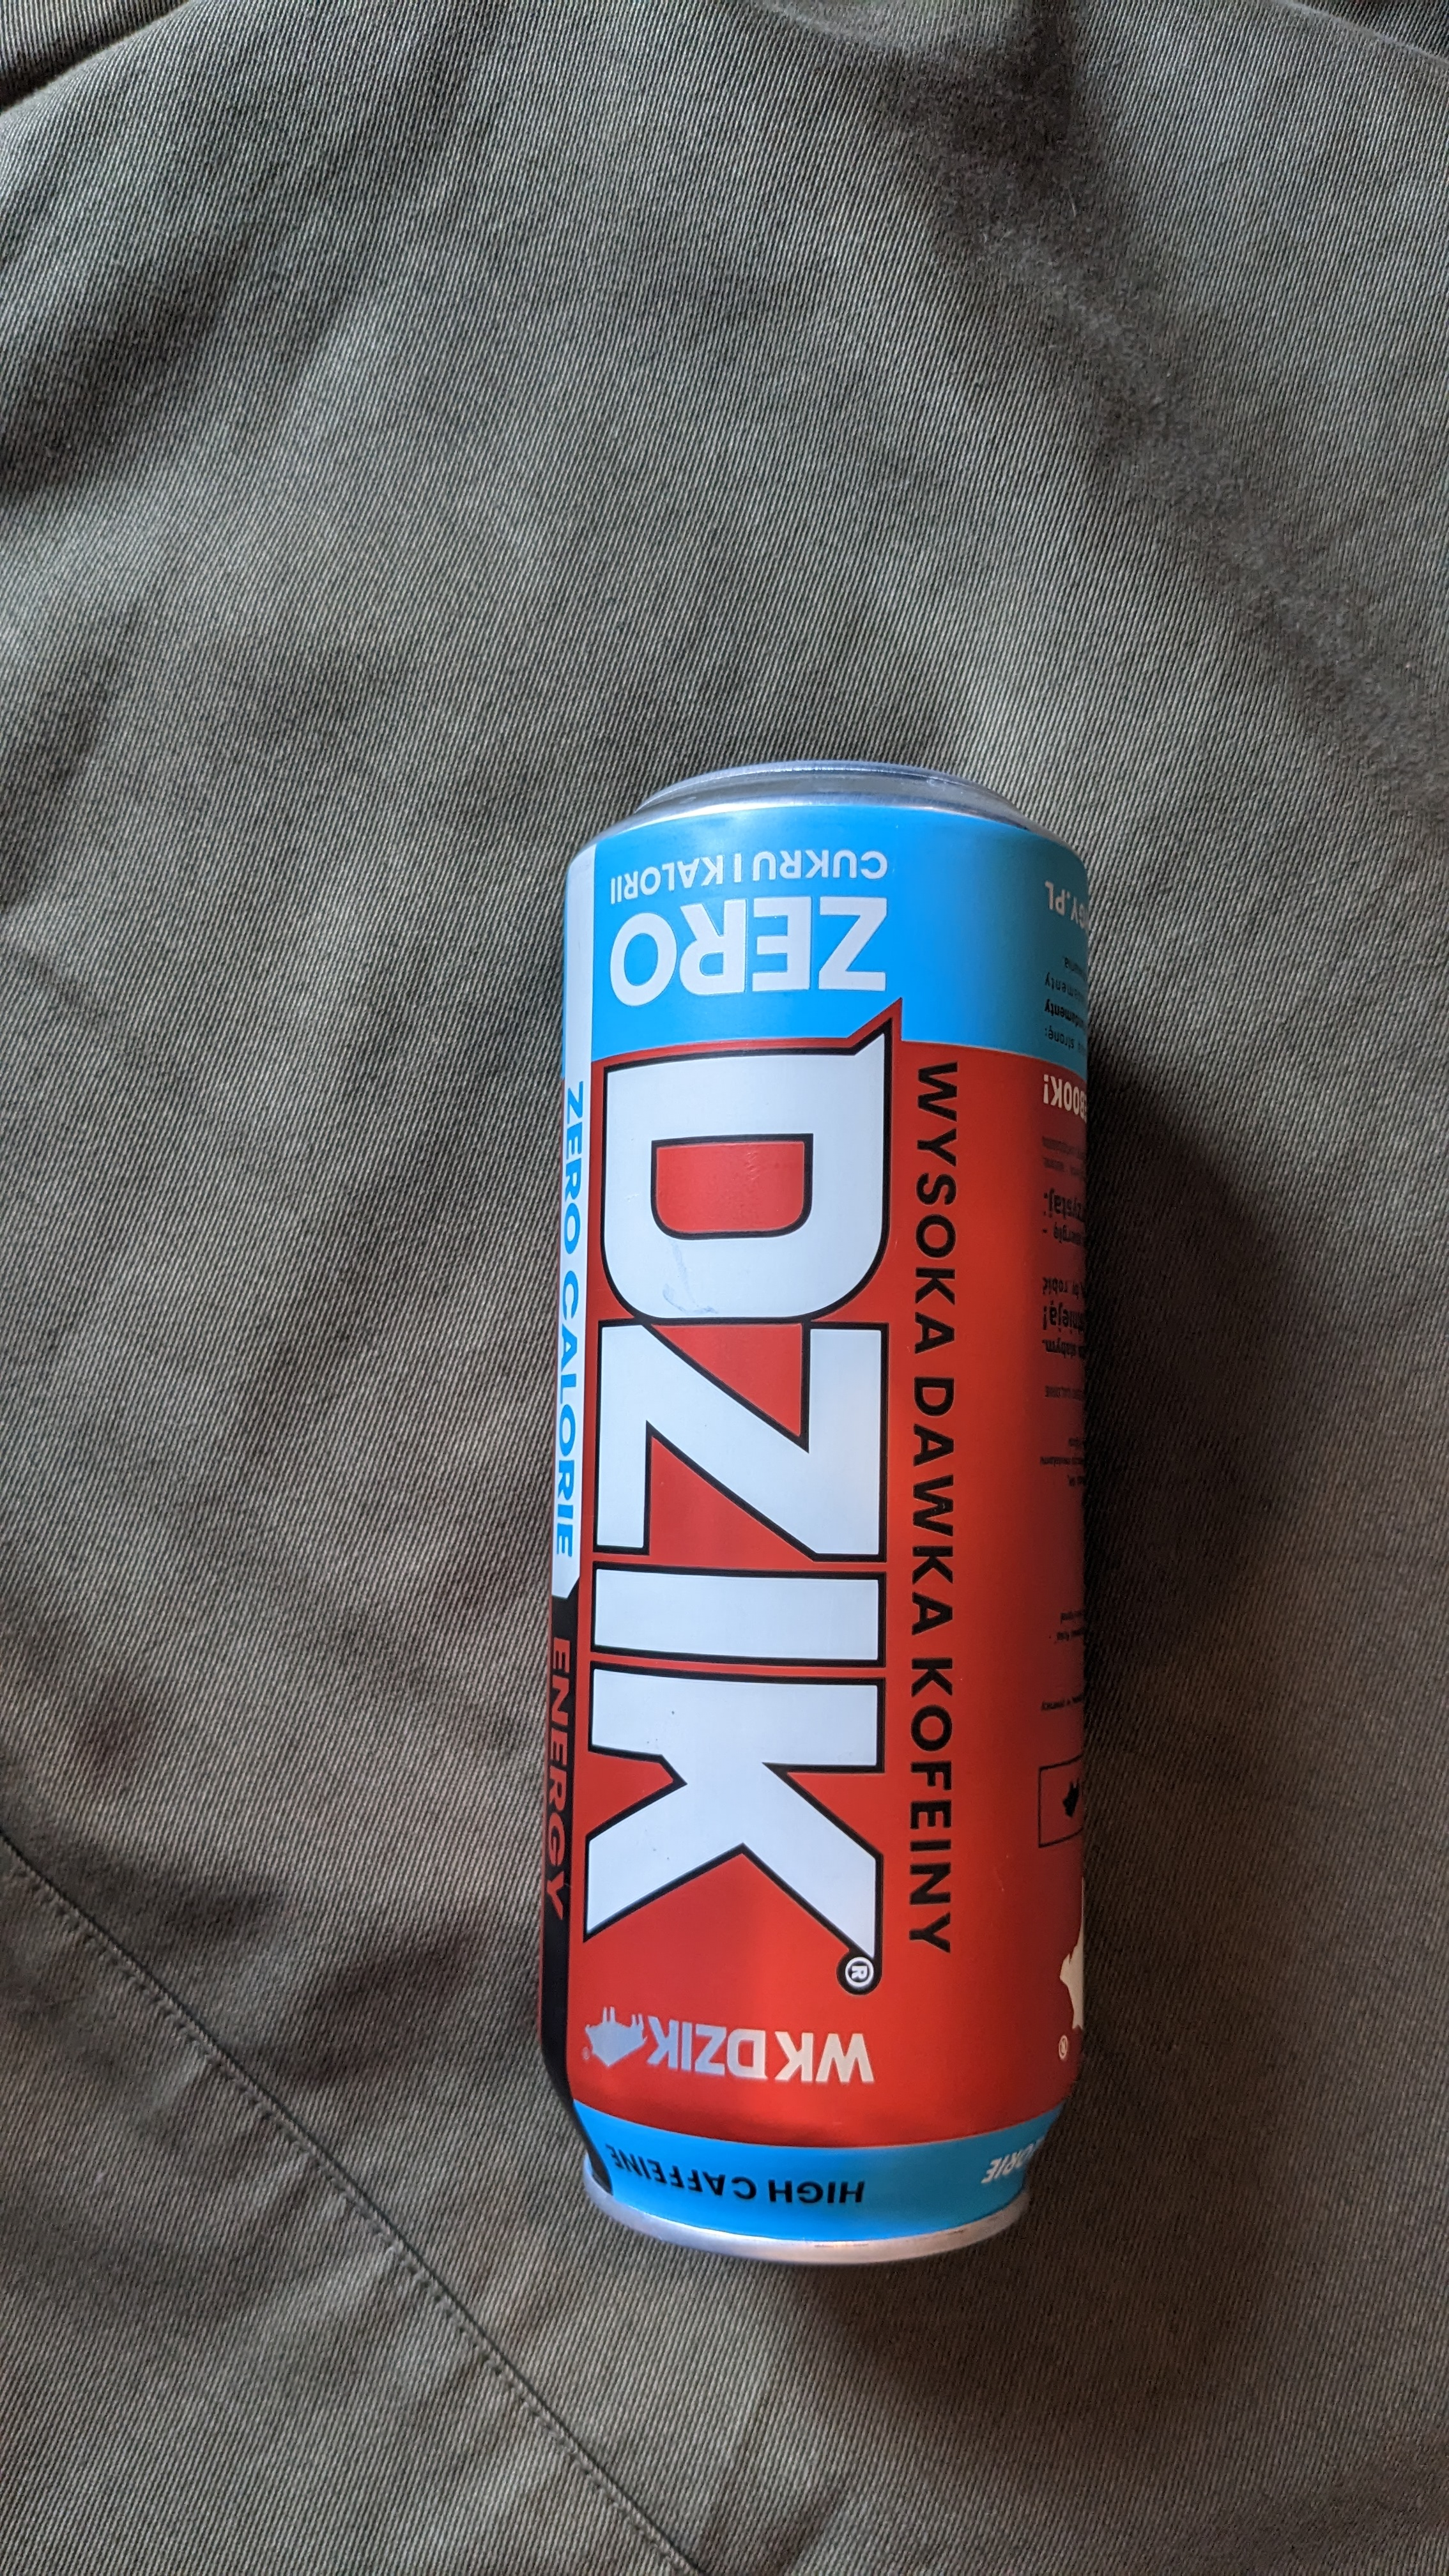dzik: (547, 754, 1109, 2279)
